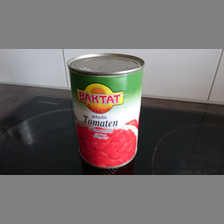tomato_sauce: (67, 52, 145, 169)
